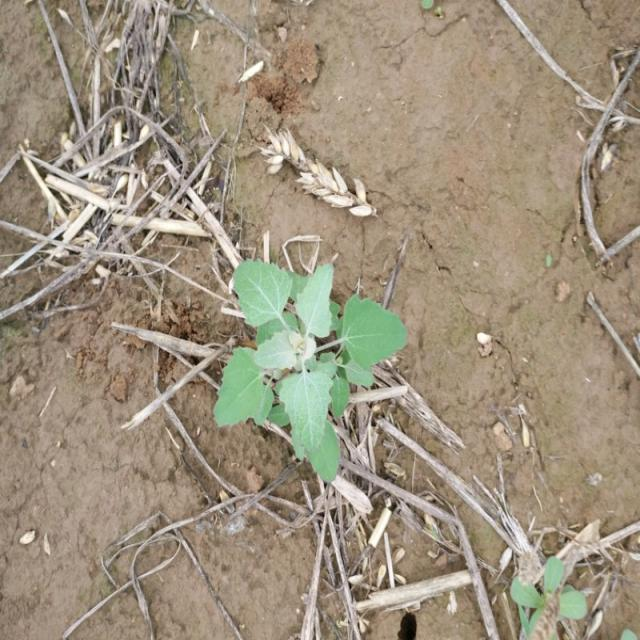goosefoots: (206, 246, 416, 494)
